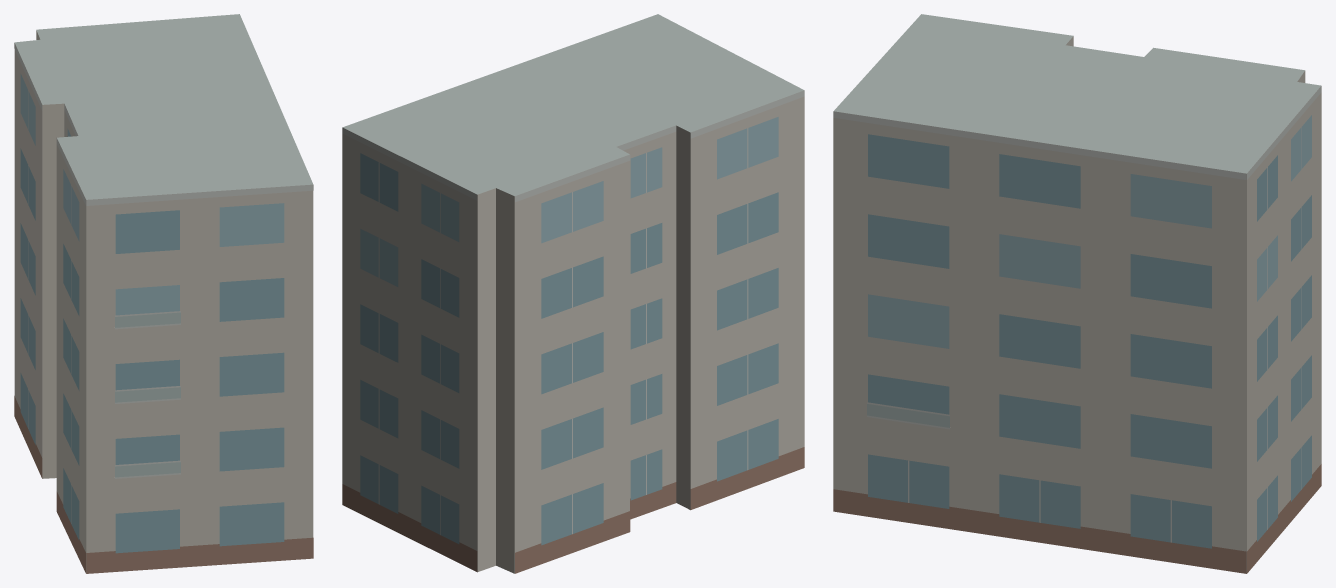
Rendered from survey-upis-33008575.glb.
3 views of the same model, side by side, from view 1: azimuth 30°, elevation 25°; view 2: azimuth 150°, elevation 25°; view 3: azimuth 270°, elevation 25° (orthographic). The views are drawn at different scales.
Parts seen in each view (by area): view 1: survey-upis-33008575.tmp; view 2: survey-upis-33008575.tmp; view 3: survey-upis-33008575.tmp.
Boxes of the visible parts, left/top/right/bottom form: survey-upis-33008575.tmp: left=14, top=14, right=313, bottom=573; survey-upis-33008575.tmp: left=342, top=14, right=804, bottom=573; survey-upis-33008575.tmp: left=833, top=14, right=1321, bottom=573.
Size of the model in its own units: 12.75 by 14.9 by 16.48.
